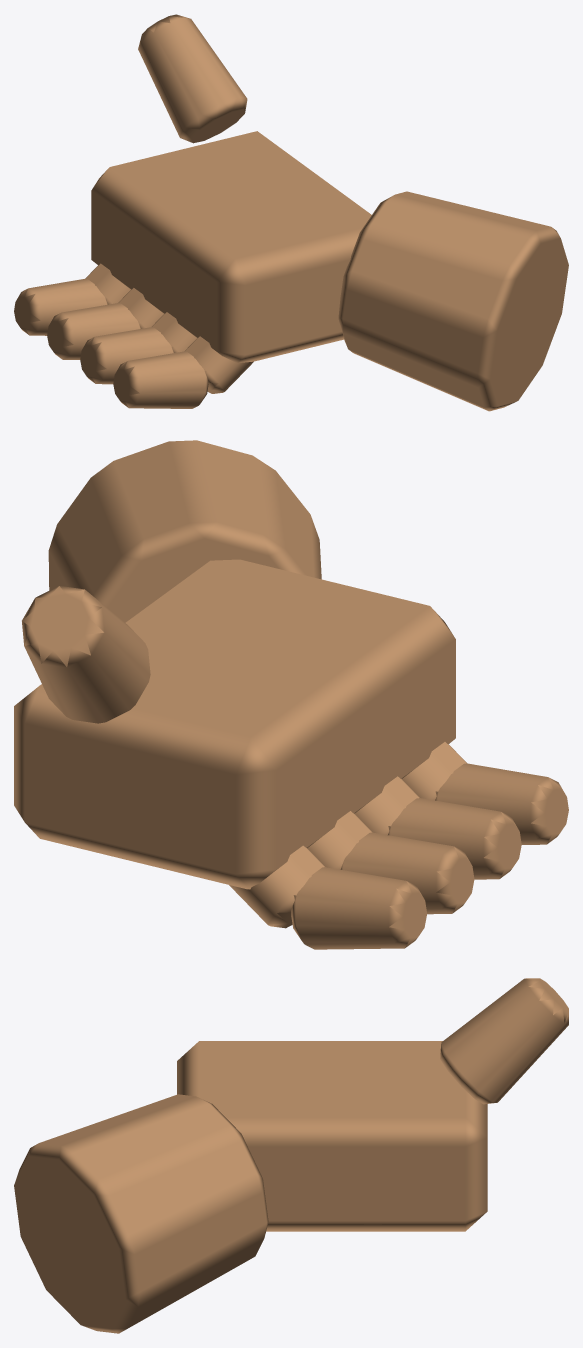
File: GoldFxBucketHandR.glb
3 views of the same model, one above another, from view 1: azimuth 30°, elevation 25°; view 2: azimuth 150°, elevation 25°; view 3: azimuth 270°, elevation 25° (orthographic). The views are drawn at different scales.
Parts seen in each view (by area): view 1: GoldFxBucketHandR.001; view 2: GoldFxBucketHandR.001; view 3: GoldFxBucketHandR.001.
Boxes of the visible parts, x1=… form: GoldFxBucketHandR.001: x1=14, y1=14, x2=568, y2=411; GoldFxBucketHandR.001: x1=14, y1=440, x2=568, y2=949; GoldFxBucketHandR.001: x1=14, y1=978, x2=568, y2=1333.
Bounding box in the file's own units: 0.1328 × 0.0836 × 0.15.
